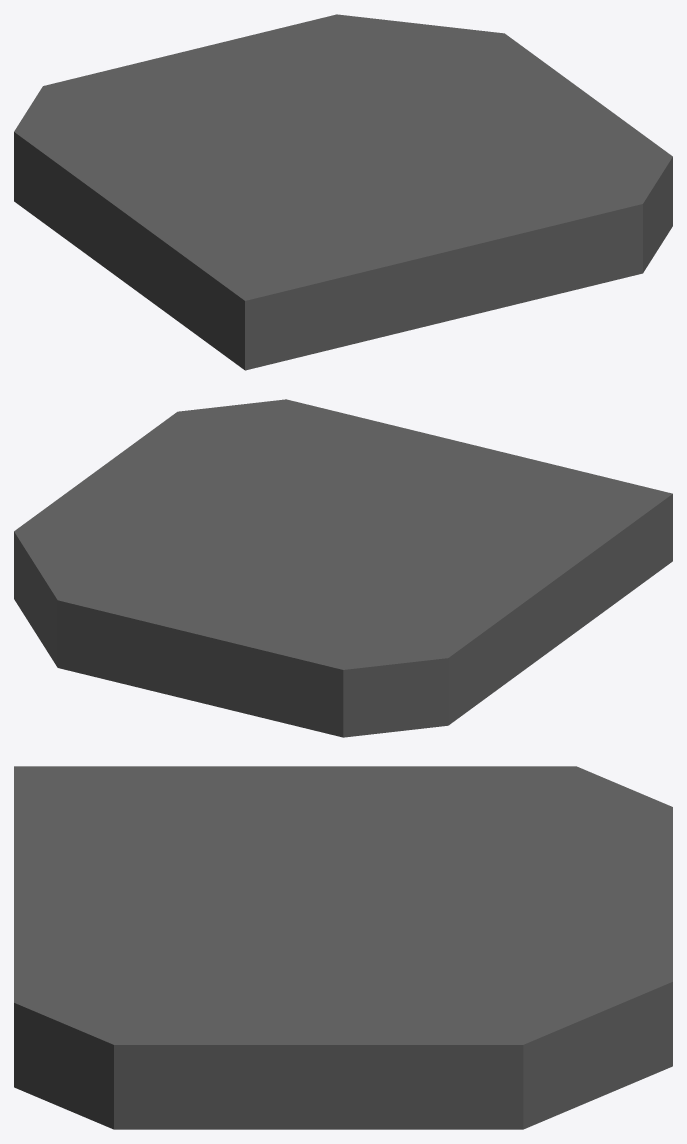
File: Tile_03.fbx
The picture shows the model from 3 angles, top to bottom: view 1: azimuth 30°, elevation 25°; view 2: azimuth 150°, elevation 25°; view 3: azimuth 270°, elevation 25°; orthographic projection. The views are drawn at different scales.
Visible parts, largest first — view 1: Tile_03_LOD0; view 2: Tile_03_LOD0; view 3: Tile_03_LOD0.
Boxes of the visible parts, box(x1,y1,x2,y2) form: Tile_03_LOD0: box(14, 14, 672, 370); Tile_03_LOD0: box(14, 399, 672, 737); Tile_03_LOD0: box(14, 766, 672, 1129).
Size of what is drawn, in the model's own units: 0.3056 by 0.0434 by 0.3056.
